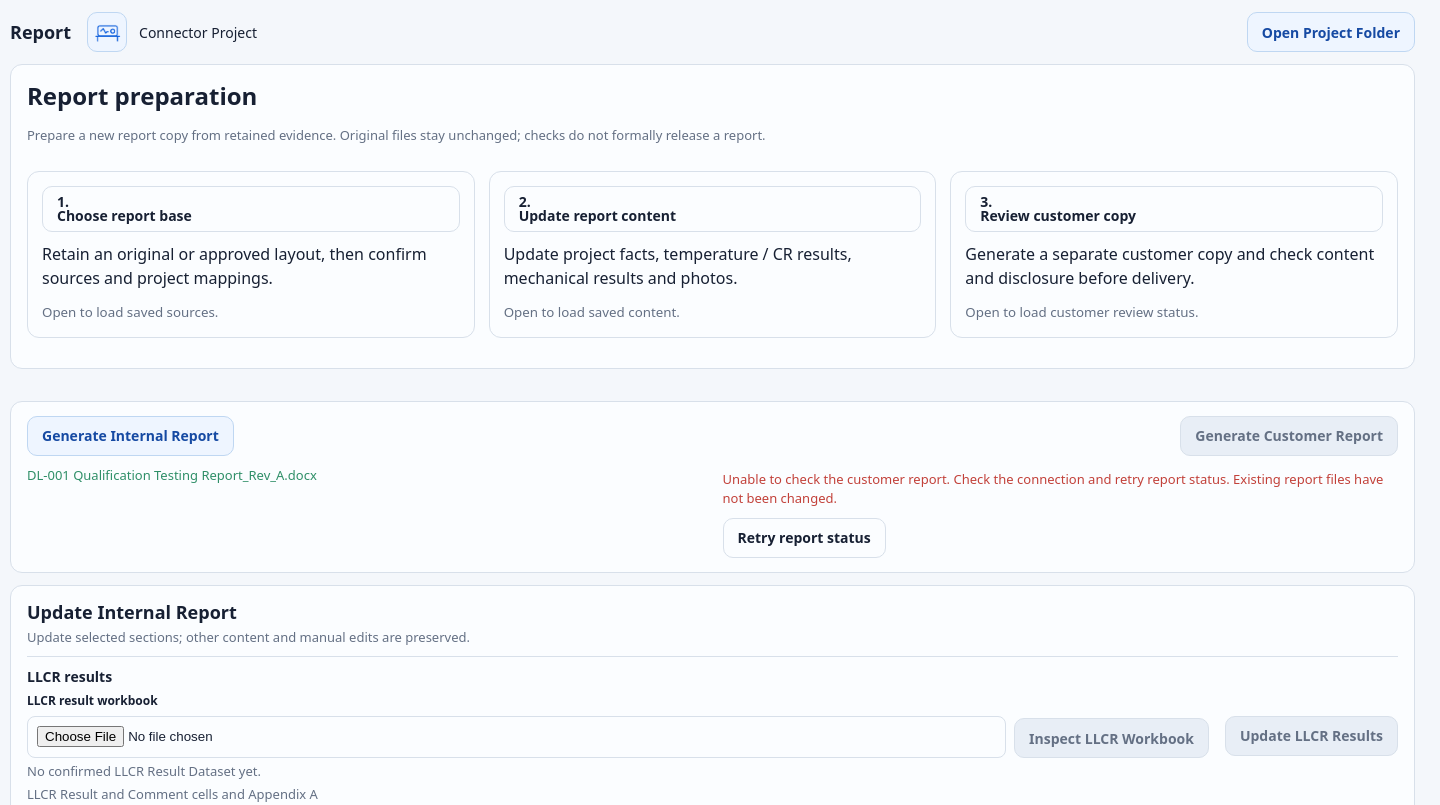
it: ReportWorkspace › keeps internal report visible when customer status fails and retries without generation
Check: the element "Internal Report" is shown, box [27,416,317,484]
Check: the text "Unable to check the customer report" is shown, box [722,470,1383,507]
Click the button "Retry report status" at (804, 538), box [722,518,886,558]
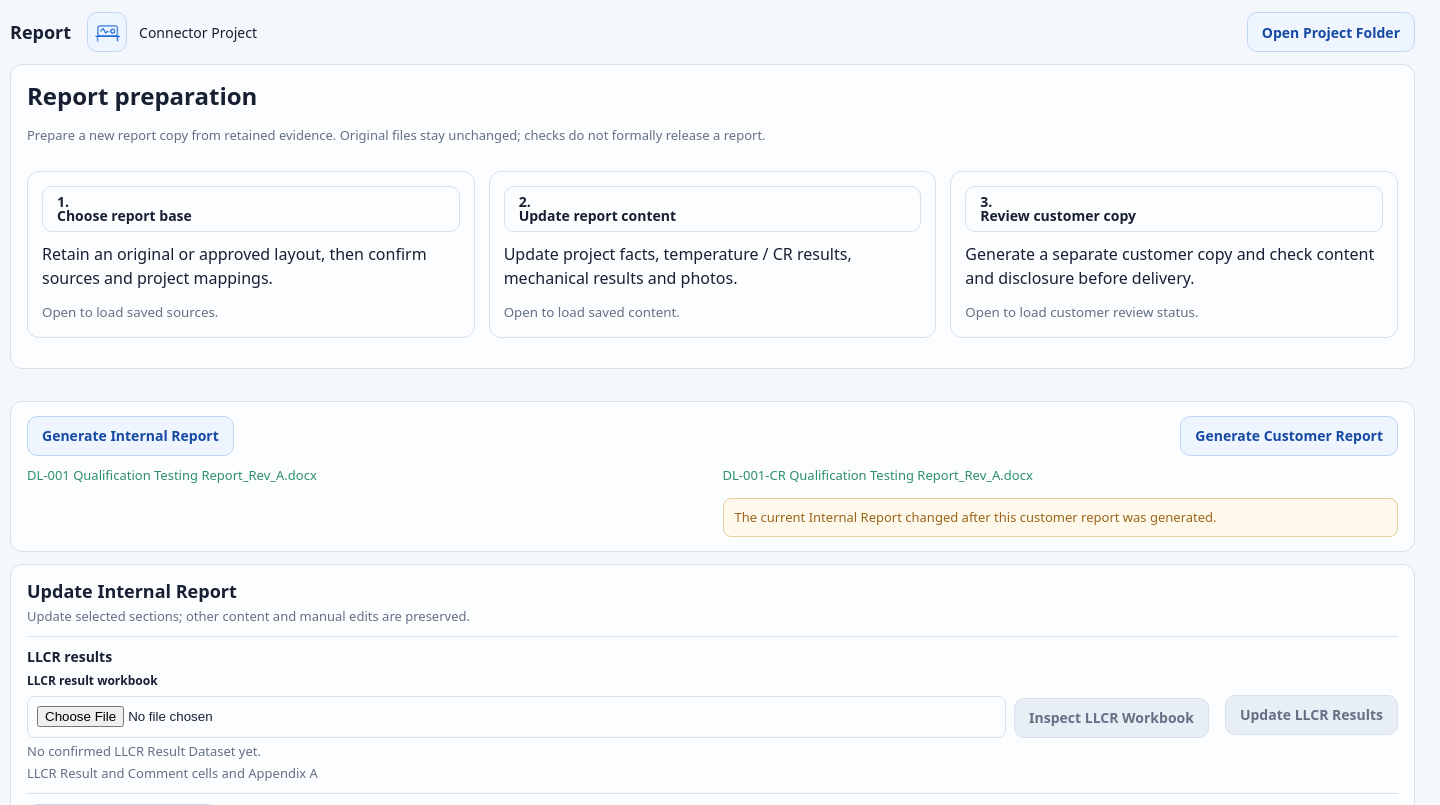
Check: the text "Unable to check the customer report" is gone
